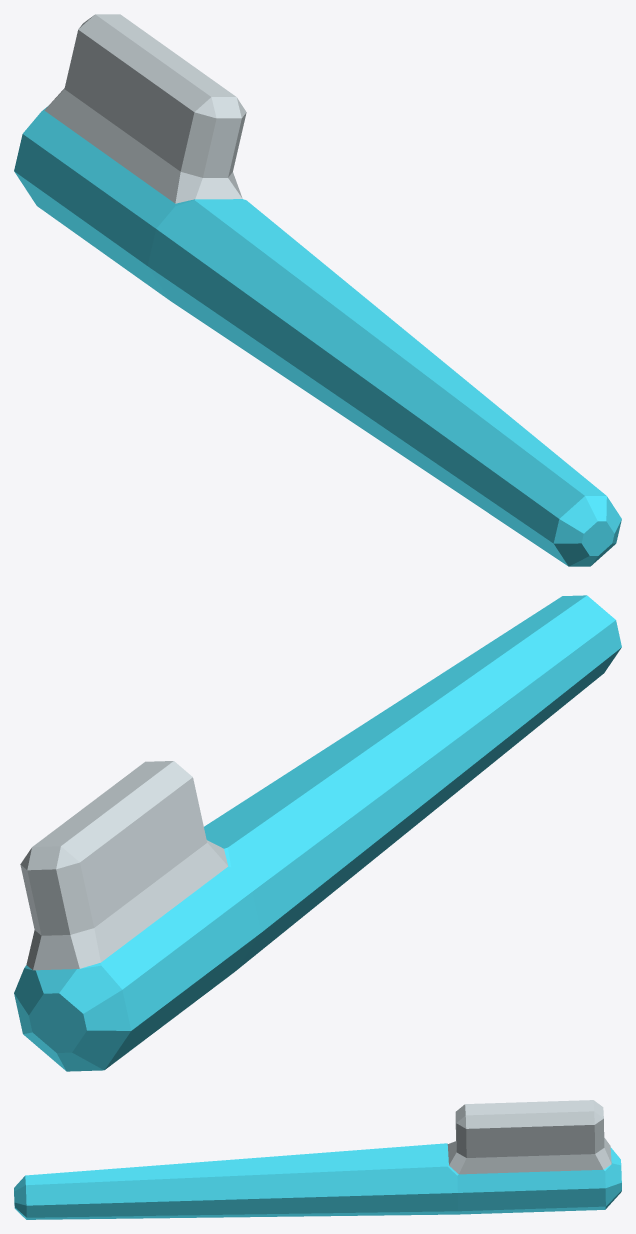
File: Toothbrush.fbx
The picture shows the model from 3 angles, top to bottom: view 1: azimuth 30°, elevation 25°; view 2: azimuth 150°, elevation 25°; view 3: azimuth 270°, elevation 25°; orthographic projection. The views are drawn at different scales.
Visible parts, largest first — view 1: Toothbrush; view 2: Toothbrush; view 3: Toothbrush.
Boxes of the visible parts, bbox=[...] form: Toothbrush: bbox=[14, 14, 621, 566]; Toothbrush: bbox=[14, 595, 621, 1071]; Toothbrush: bbox=[14, 1100, 621, 1219].
Bounding box in the file's own units: 0.0149 × 0.0246 × 0.1161.
1 material, 1 textured.
